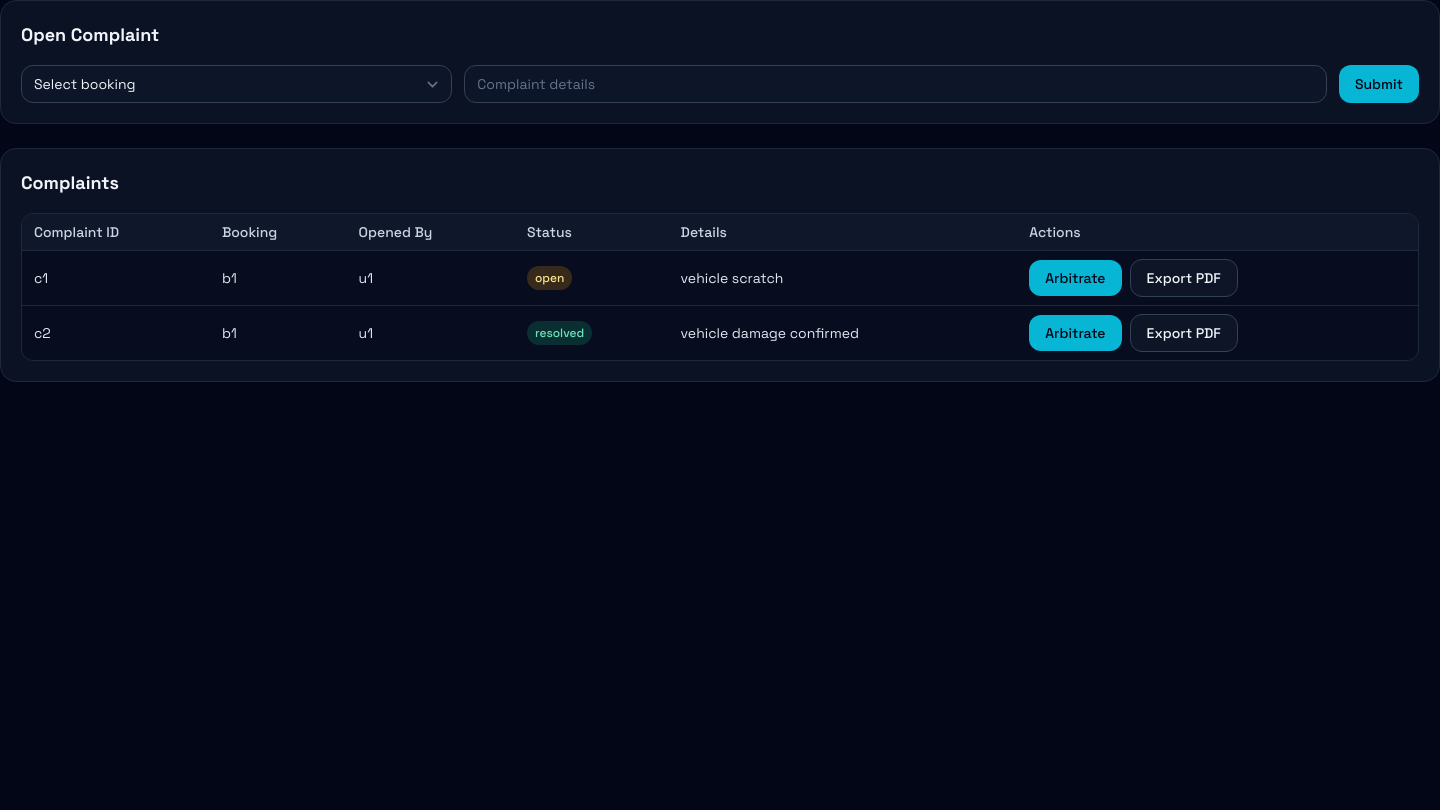
Test: ComplaintsPage › arbitrate modal opens for csa user
The image size is (1440, 810).
Expected: the text "c1" is shown, [22, 250, 210, 306]
Click the button "Arbitrate" in the row of "c1". click: (1075,278)
box: [1029, 260, 1122, 296]
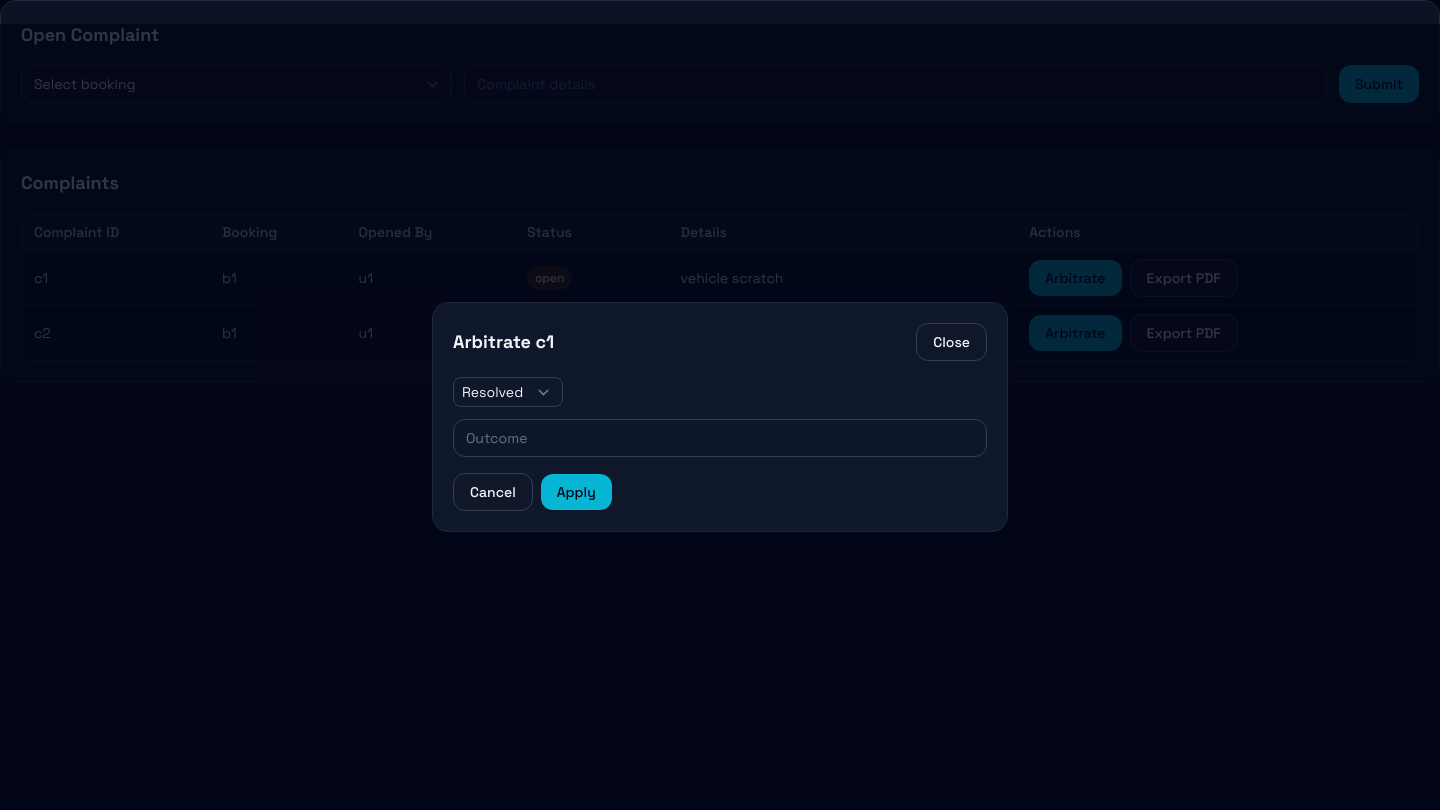
Expected: the heading "Arbitrate c1" is shown, [453, 328, 554, 356]
